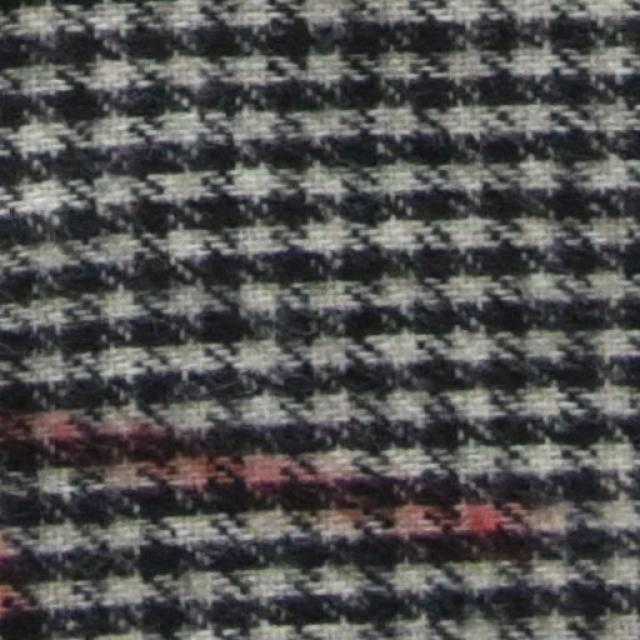Stain: (0, 396, 528, 636)
